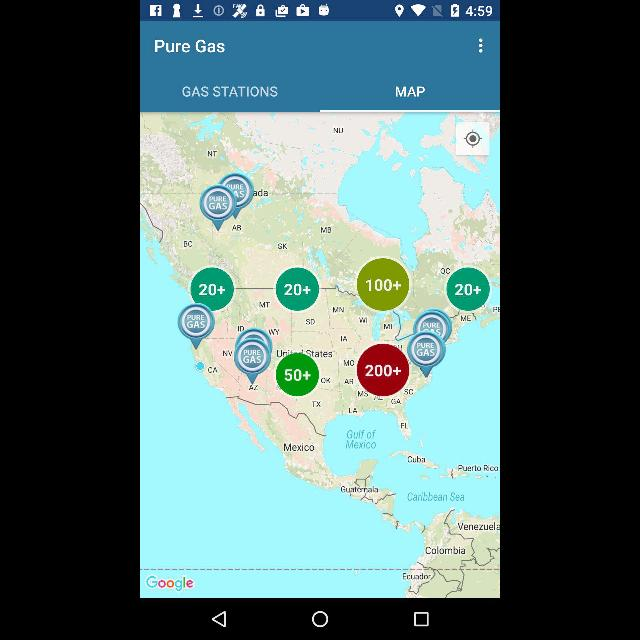icon: (311, 612, 329, 628), (214, 611, 226, 629), (414, 613, 428, 627), (476, 37, 484, 55)
map: (141, 112, 499, 598)
multitab: (141, 70, 499, 112)
panel: (141, 600, 499, 640)
text: (182, 88, 278, 99), (156, 40, 224, 54), (396, 87, 424, 97)
toolbar: (140, 21, 500, 71)
uppertaskbar: (140, 1, 500, 22)
